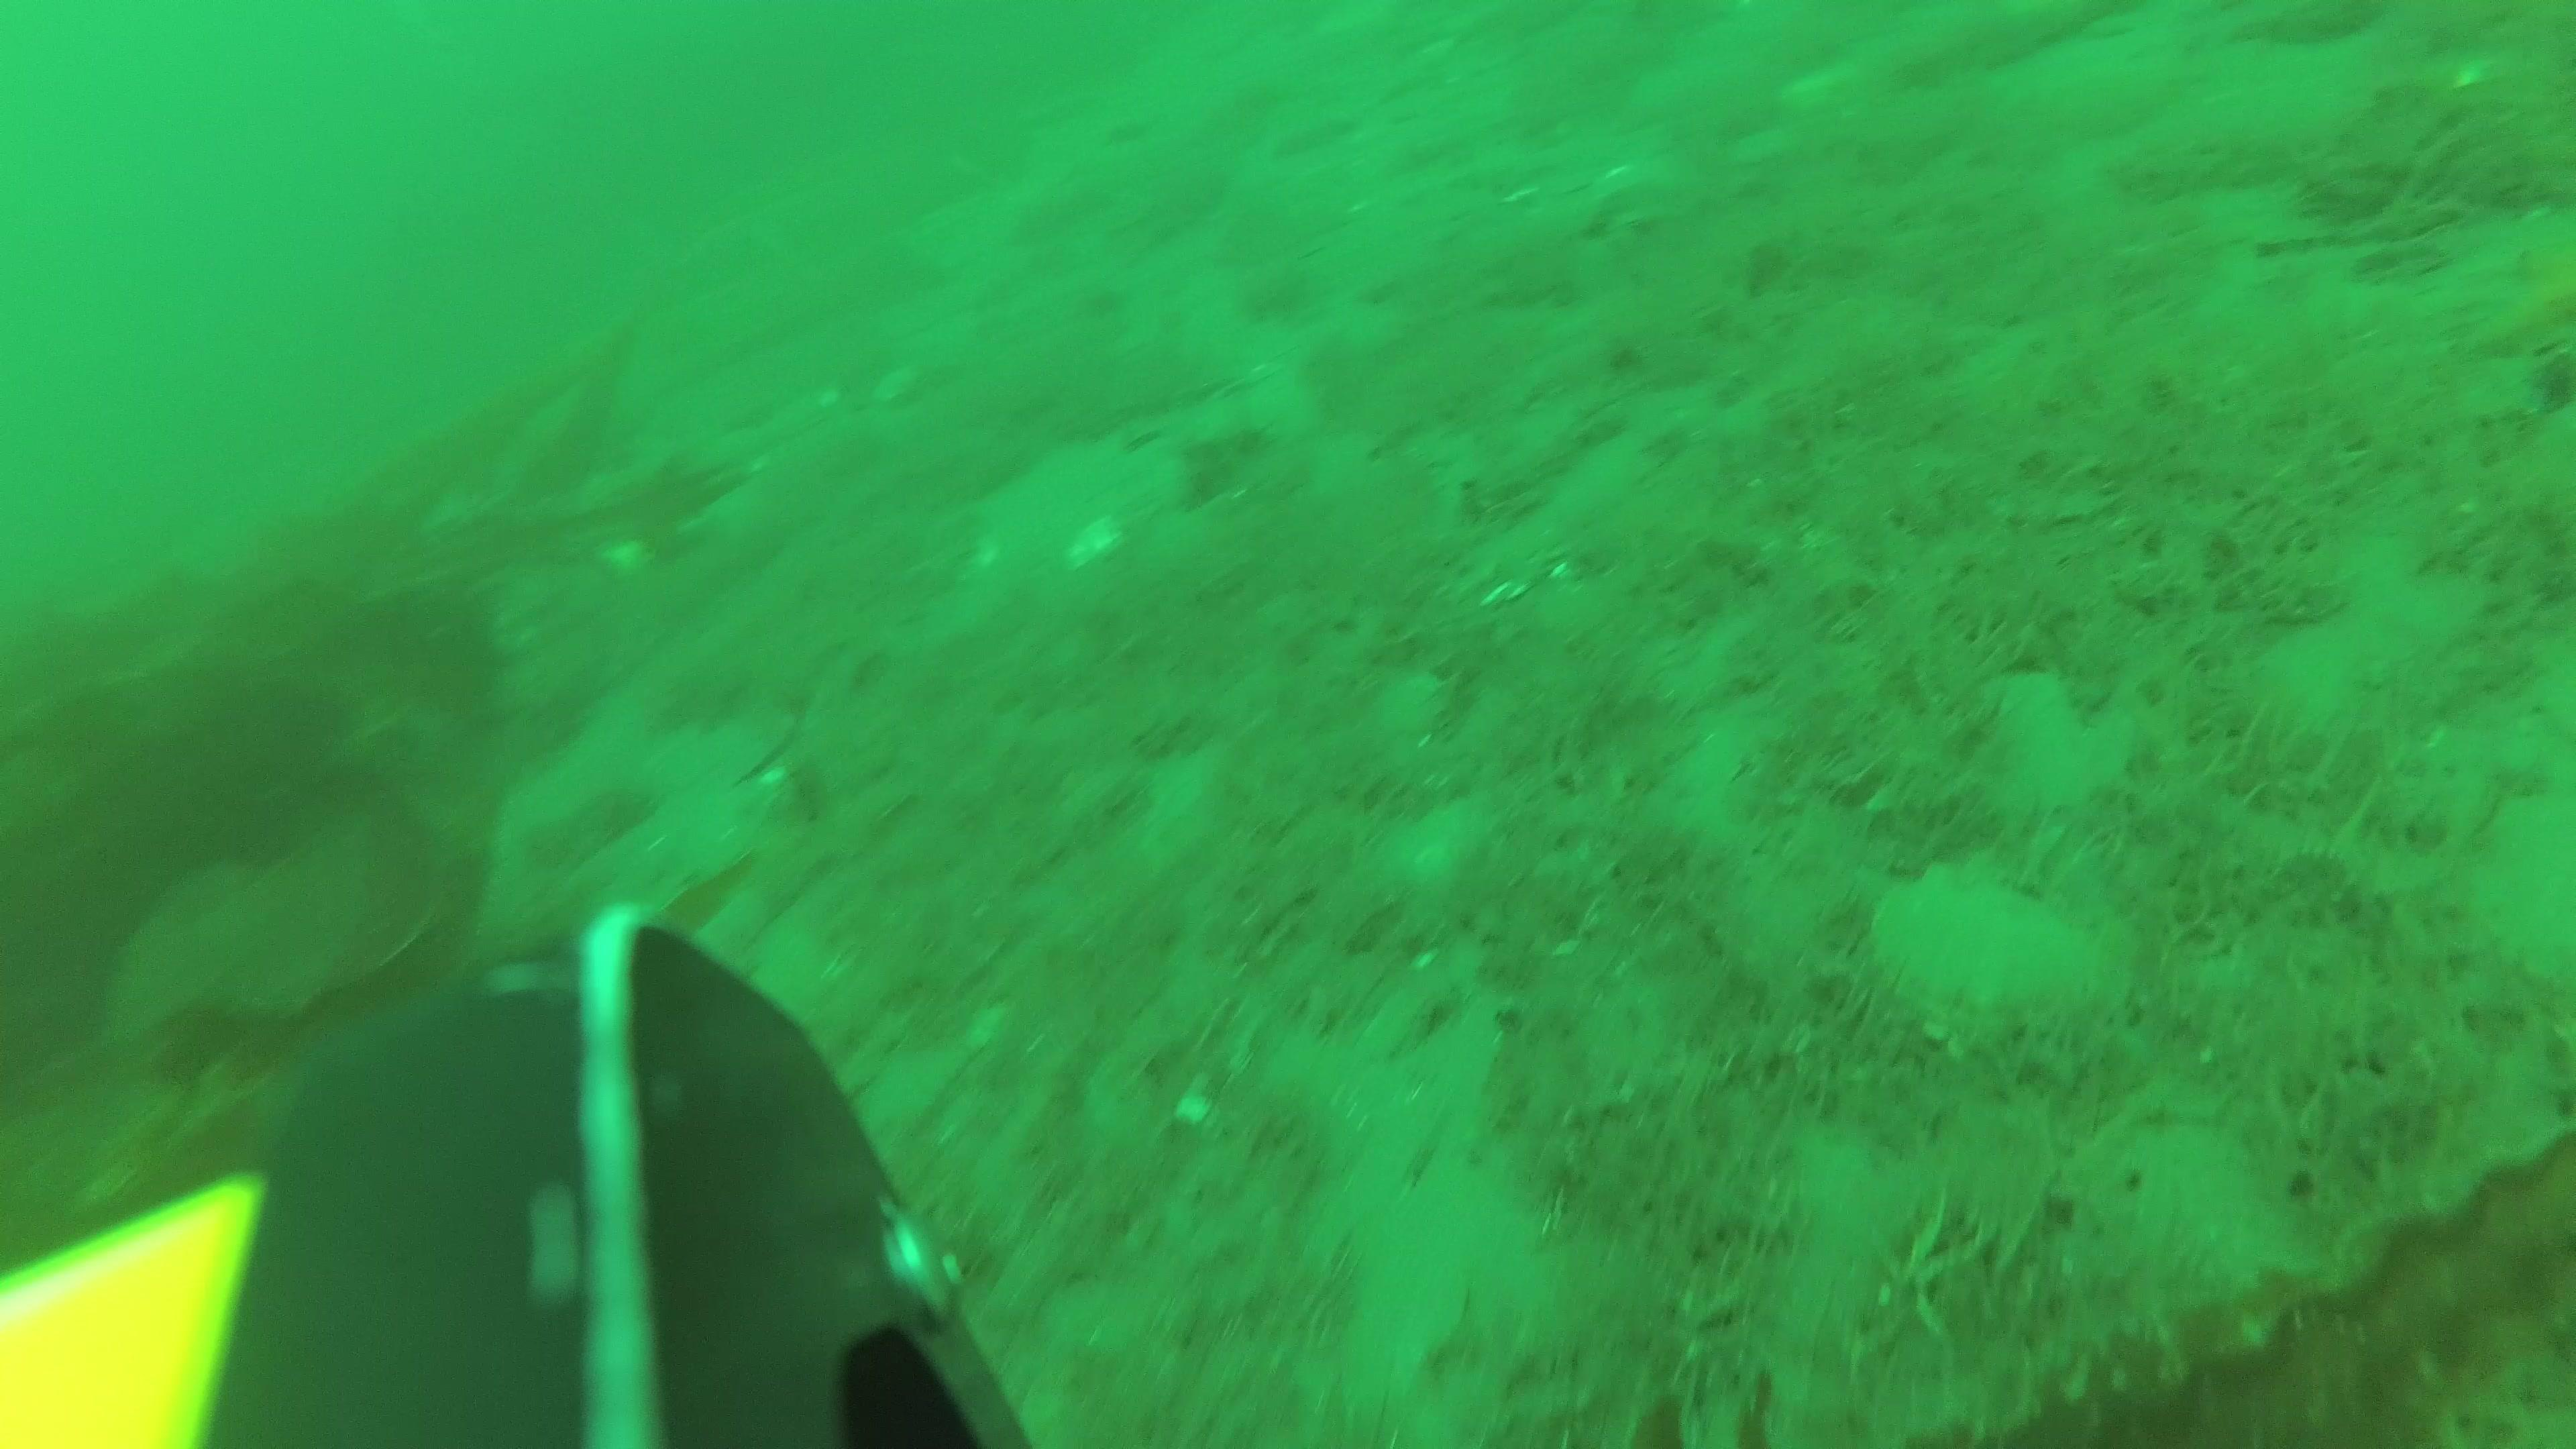scallop: (1872, 860, 2098, 1016), (1967, 671, 2121, 800), (1070, 511, 1125, 566)
